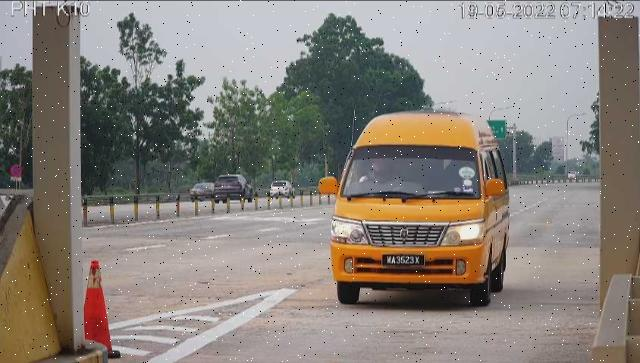License_Plate: (381, 254, 427, 271)
van: (332, 112, 511, 308)
